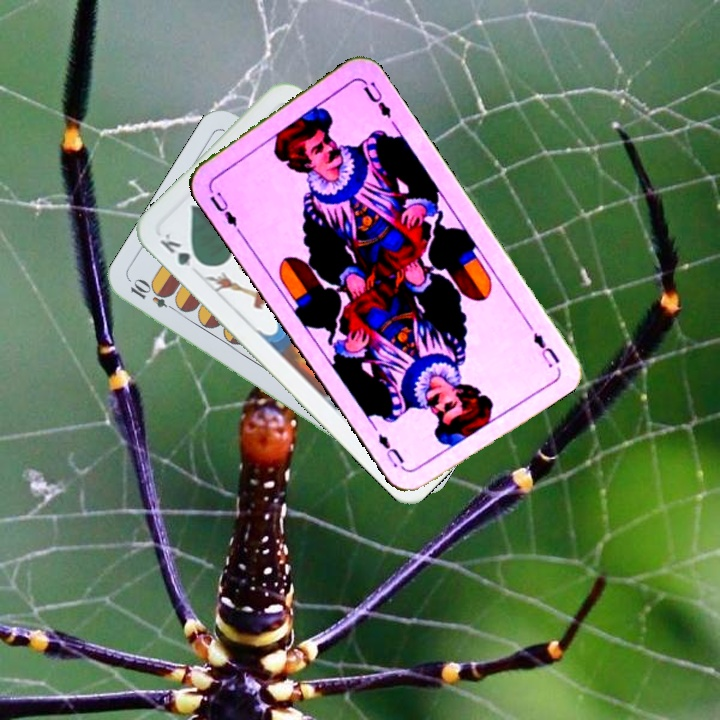E10: (126, 276, 182, 315)
EU: (205, 183, 240, 230), (529, 328, 563, 371)
GK: (155, 229, 207, 270)
